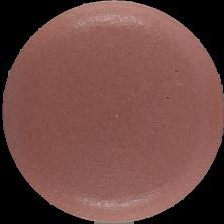65597-117: (0, 0, 224, 224)
